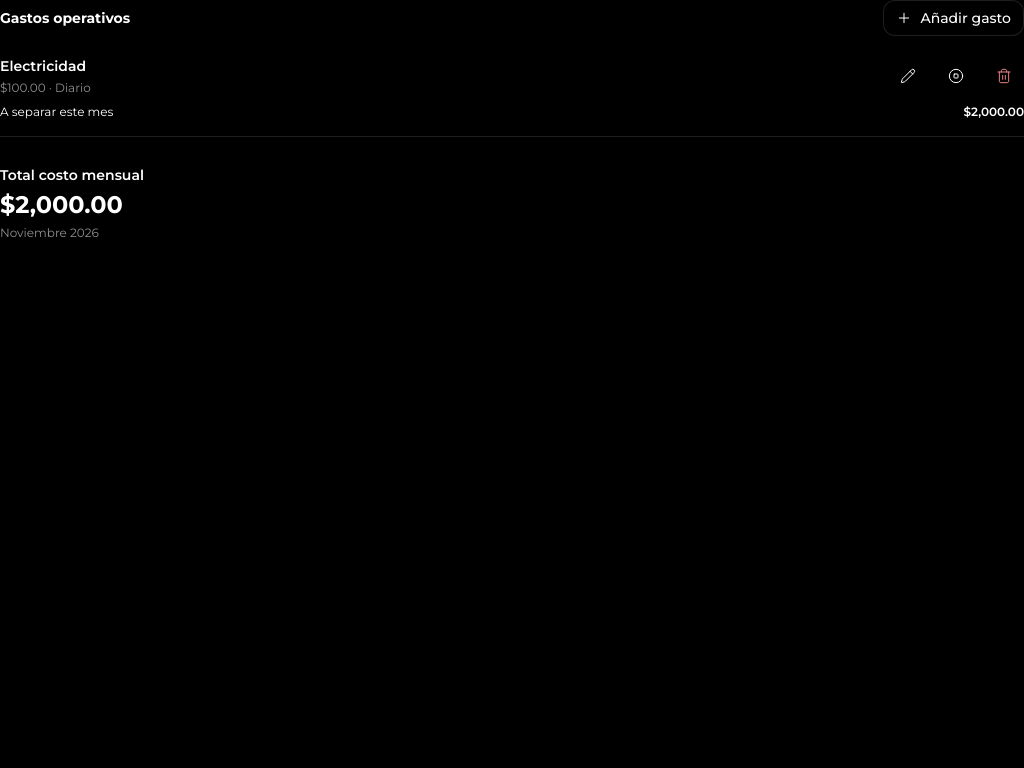
it: permanent expense deletion › permanently deletes daily expenses instead of pausing
Click the button named "Eliminar Electricidad".
click(1004, 76)  # box [984, 56, 1023, 96]
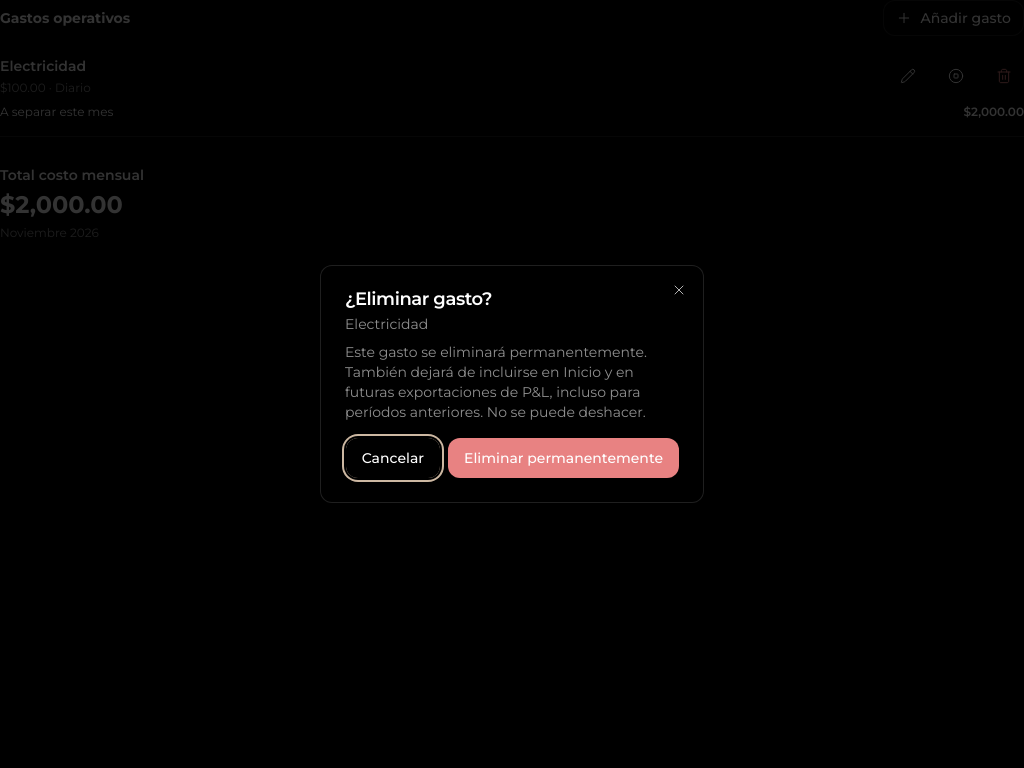
Click the button "Eliminar permanentemente".
click(564, 458)  # box [448, 438, 679, 478]
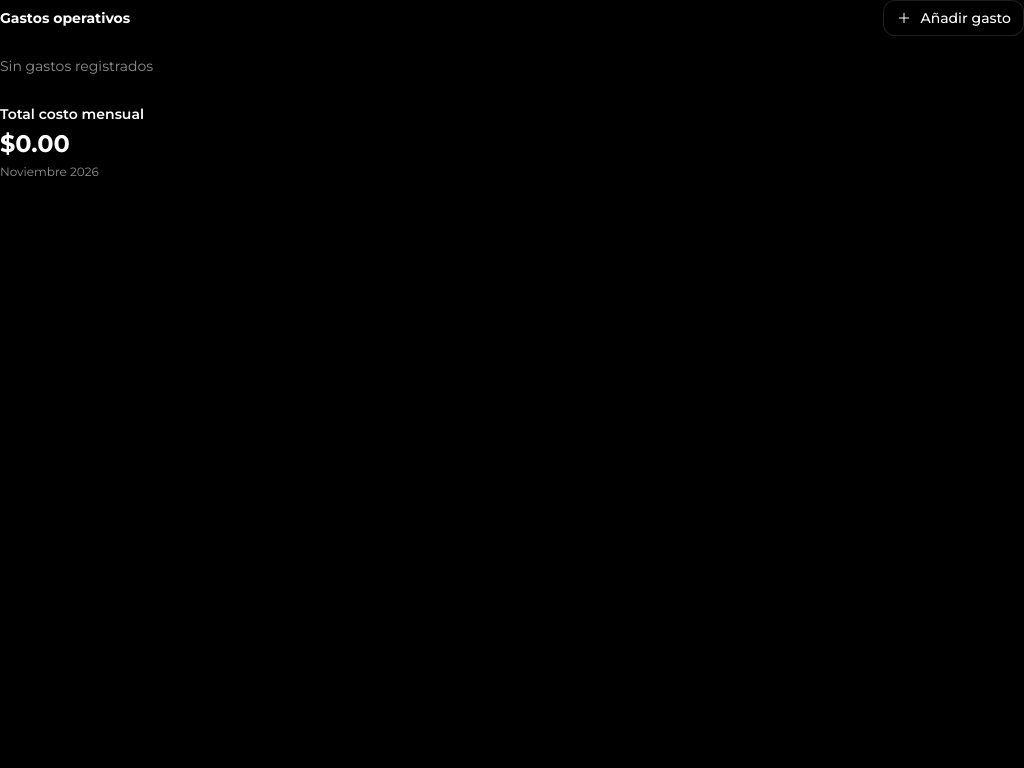
Expected: the text "Electricidad" is gone
